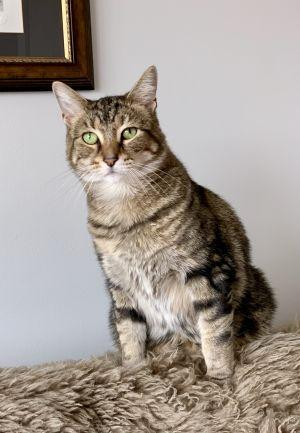bengal: (49, 63, 174, 192)
